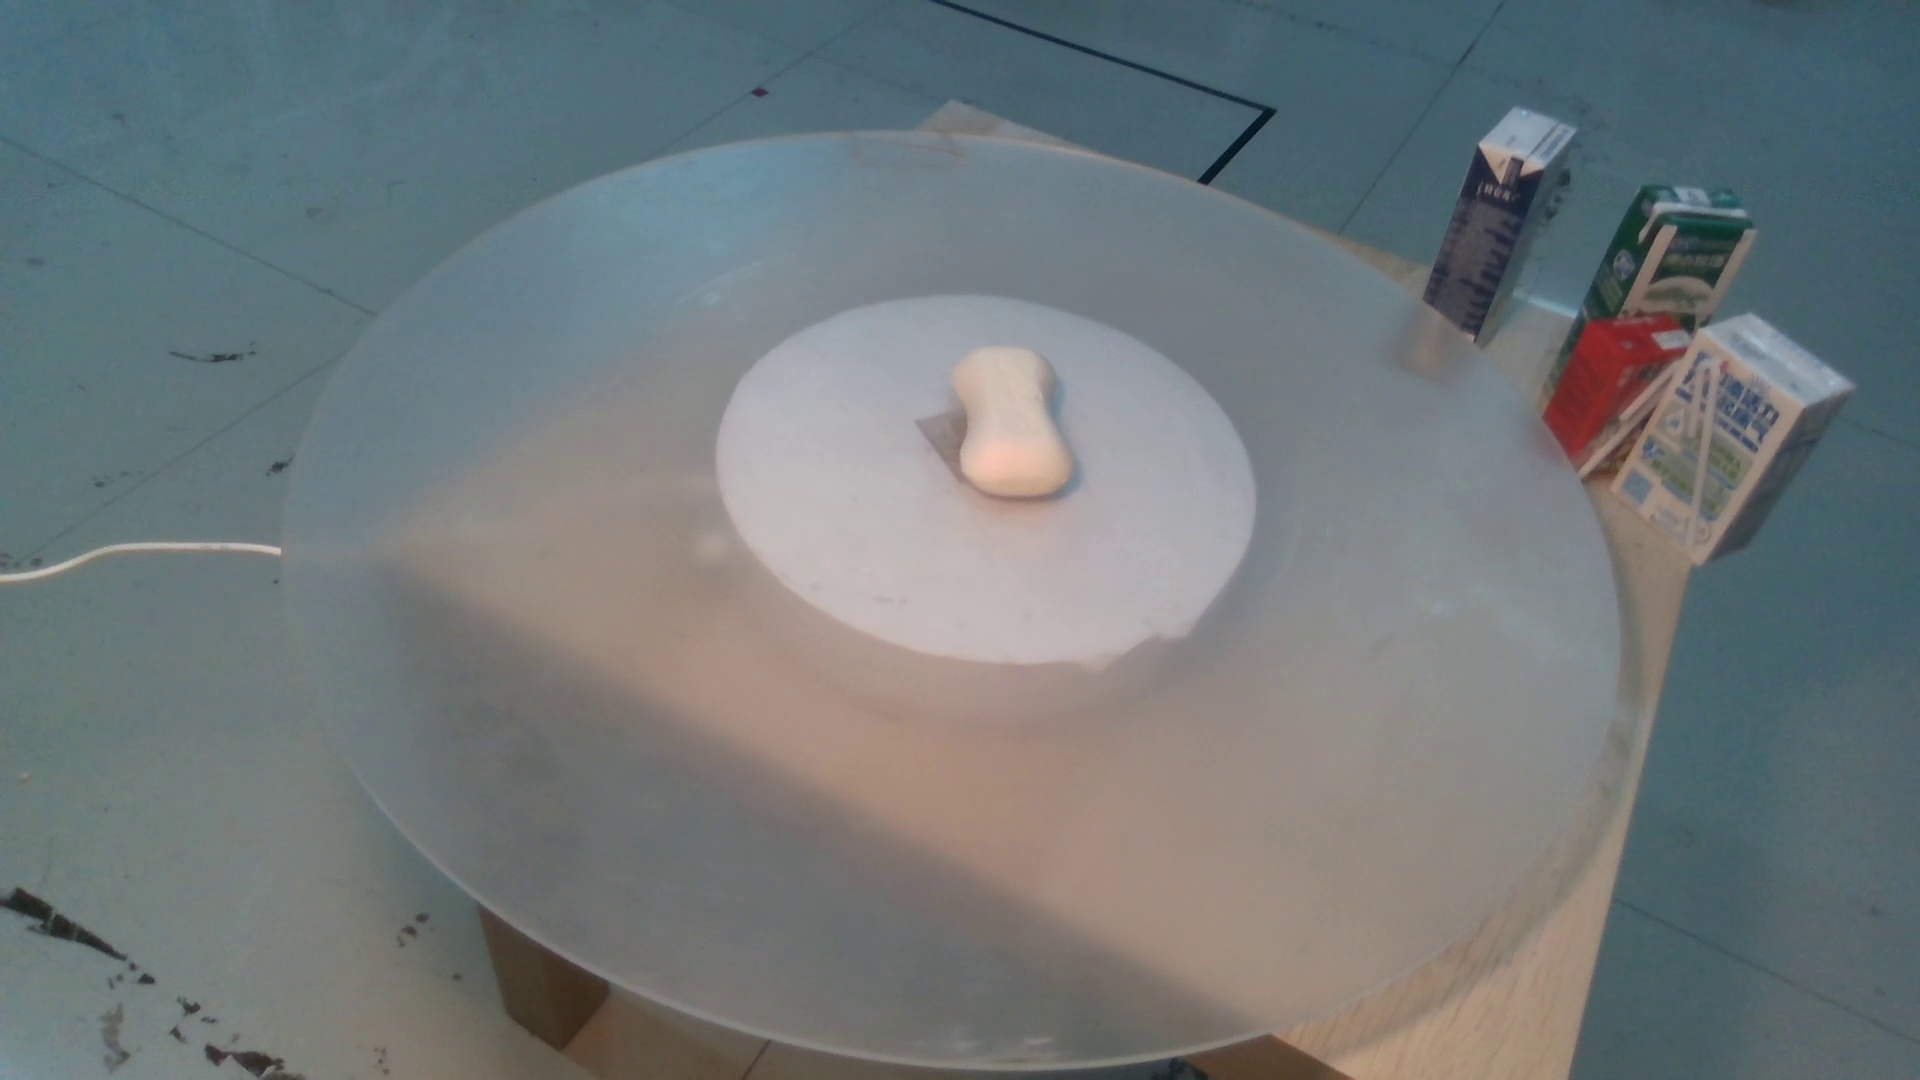CA003_1: (901, 339, 1137, 514)
